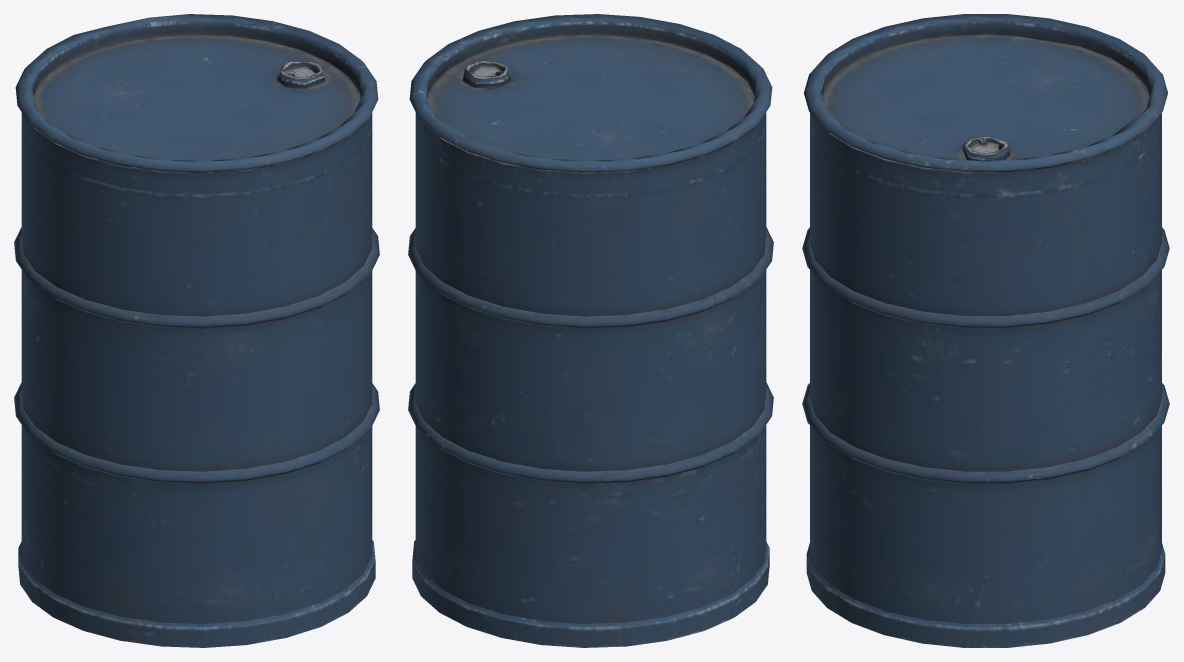
Rendered from barrel_03.glb.
The picture shows the model from 3 angles, left to right: view 1: azimuth 30°, elevation 25°; view 2: azimuth 150°, elevation 25°; view 3: azimuth 270°, elevation 25°; orthographic projection.
Visible parts, largest first — view 1: barrel_03; view 2: barrel_03; view 3: barrel_03.
Boxes of the visible parts, box(x1,y1,x2,y2) form: barrel_03: box(14, 14, 379, 647); barrel_03: box(408, 14, 773, 647); barrel_03: box(802, 14, 1169, 647).
Bounding box in the file's own units: 0.634 × 0.9305 × 0.6386.
1 material, 1 textured.
